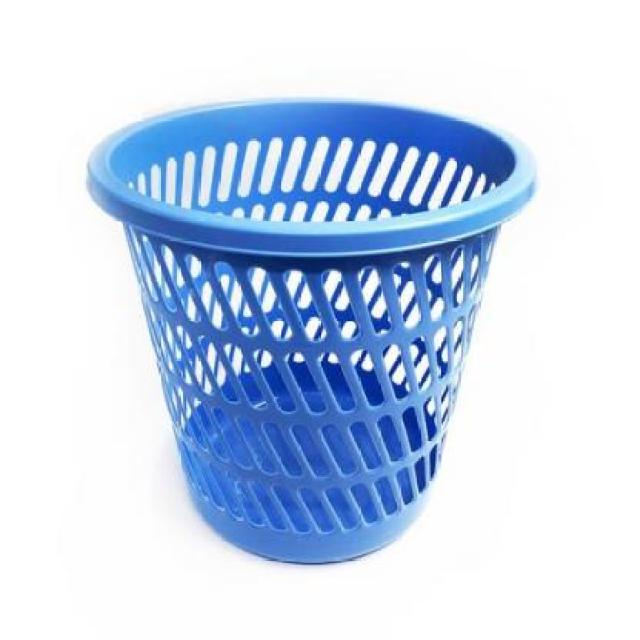dustbin: (80, 91, 545, 569)
